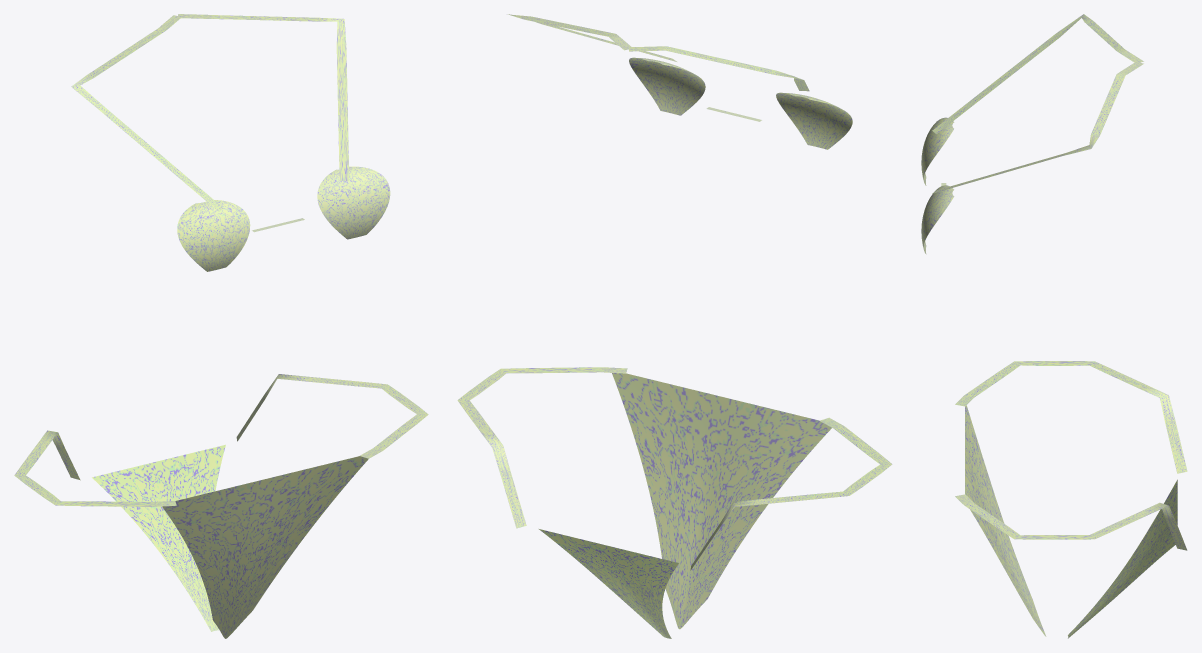
Rendered from bikini_b4712973.obj.
3 renders of one model, left to right at view 1: azimuth 30°, elevation 25°; view 2: azimuth 150°, elevation 25°; view 3: azimuth 270°, elevation 25°, orthographic. The views are drawn at different scales.
Parts seen in each view (by area): view 1: bottom_front_highcut, bottom_back_thong, cup_right_triangle, cup_left_triangle, strap_right_halter, strap_left_halter, bottom_strap_left_tie, bottom_strap_right_tie; view 2: bottom_front_highcut, bottom_back_thong, bottom_strap_right_tie, cup_right_triangle, cup_left_triangle, bottom_strap_left_tie, strap_left_halter, strap_right_halter; view 3: bottom_front_highcut, bottom_back_thong, bottom_strap_left_tie, bottom_strap_right_tie, strap_left_halter, strap_right_halter, cup_right_triangle, cup_left_triangle.
Boxes of the visible parts, x1,y1,x2,y2 form: bottom_front_highcut: [162, 456, 368, 638]; bottom_back_thong: [92, 444, 225, 631]; cup_right_triangle: [317, 166, 390, 239]; cup_left_triangle: [177, 200, 250, 271]; strap_right_halter: [178, 14, 349, 180]; strap_left_halter: [71, 15, 223, 211]; bottom_strap_left_tie: [14, 430, 176, 506]; bottom_strap_right_tie: [236, 374, 428, 458]; bottom_front_highcut: [612, 373, 831, 629]; bottom_back_thong: [539, 529, 678, 638]; bottom_strap_right_tie: [457, 367, 627, 528]; cup_right_triangle: [629, 57, 705, 115]; cup_left_triangle: [776, 92, 852, 149]; bottom_strap_left_tie: [690, 417, 892, 570]; strap_left_halter: [628, 46, 809, 91]; strap_right_halter: [507, 14, 676, 61]; bottom_front_highcut: [965, 405, 1046, 636]; bottom_back_thong: [1068, 479, 1177, 638]; bottom_strap_left_tie: [955, 361, 1187, 473]; bottom_strap_right_tie: [955, 494, 1187, 550]; strap_left_halter: [932, 14, 1143, 133]; strap_right_halter: [932, 62, 1143, 193]; cup_right_triangle: [921, 185, 954, 254]; cup_left_triangle: [921, 117, 954, 185].
Bounding box in the file's own units: 0.4414 × 0.6615 × 0.2778.
Materials: 1 (1 with a texture image).
